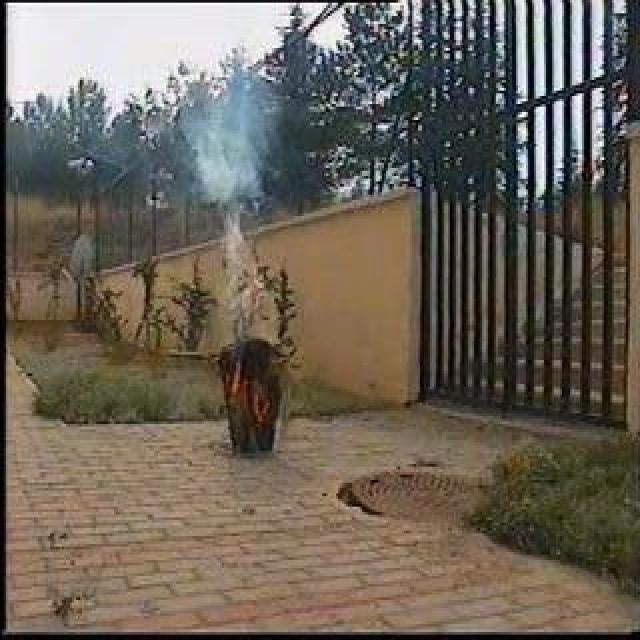fire: (225, 339, 249, 405)
smoke: (185, 64, 271, 227)
